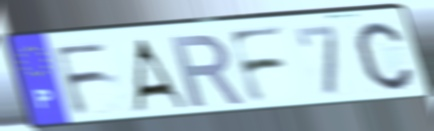7: (293, 22, 341, 99)
A: (129, 36, 190, 113)
C: (353, 19, 416, 92)
F: (225, 24, 290, 106), (50, 40, 112, 118)
R: (167, 32, 247, 110)
